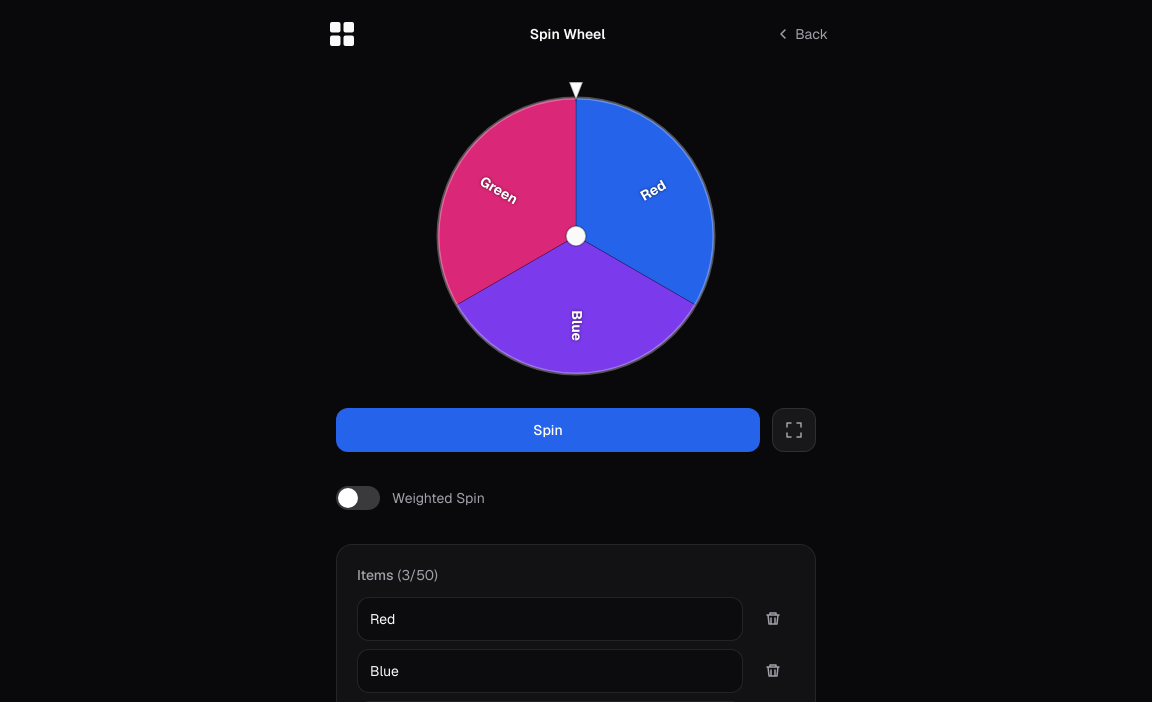
it: SpinWheelTool › result card appears after spin (reduced motion) › shows the correct winning item in the result card
Step 1. Click the button with aria-label "spin the wheel" → x=548, y=430, box x1=336 y1=408 x2=760 y2=452
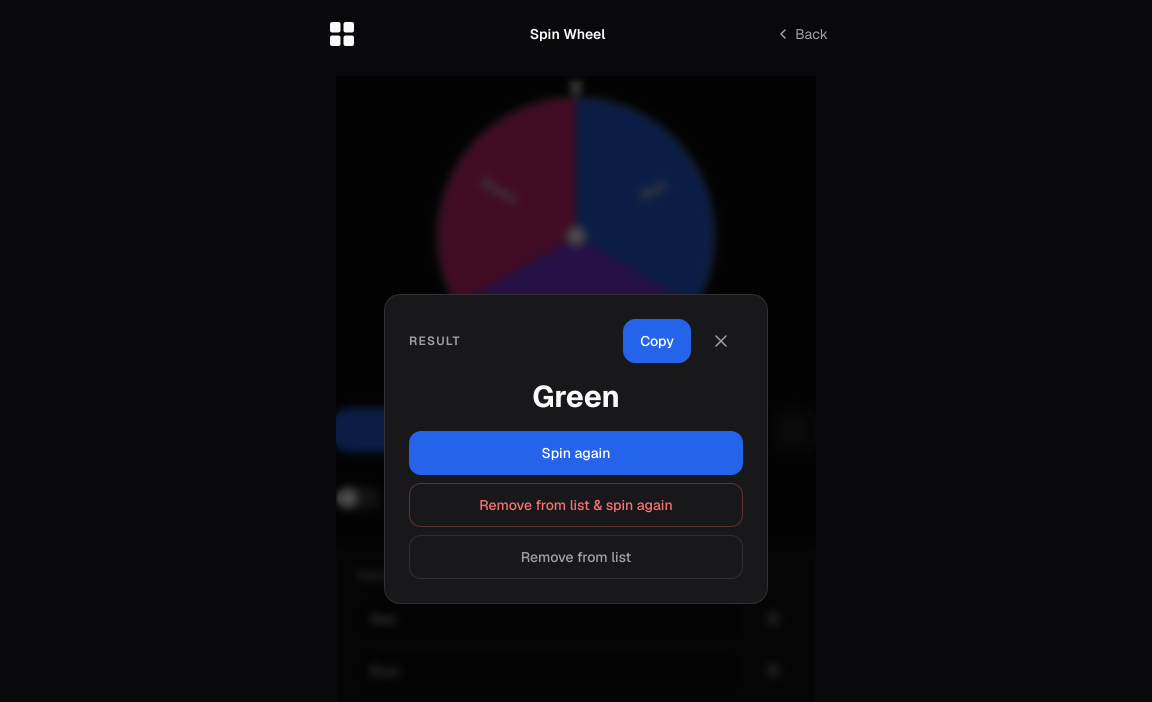
Expected: the text "Green" is shown, x1=532 y1=377 x2=620 y2=416
